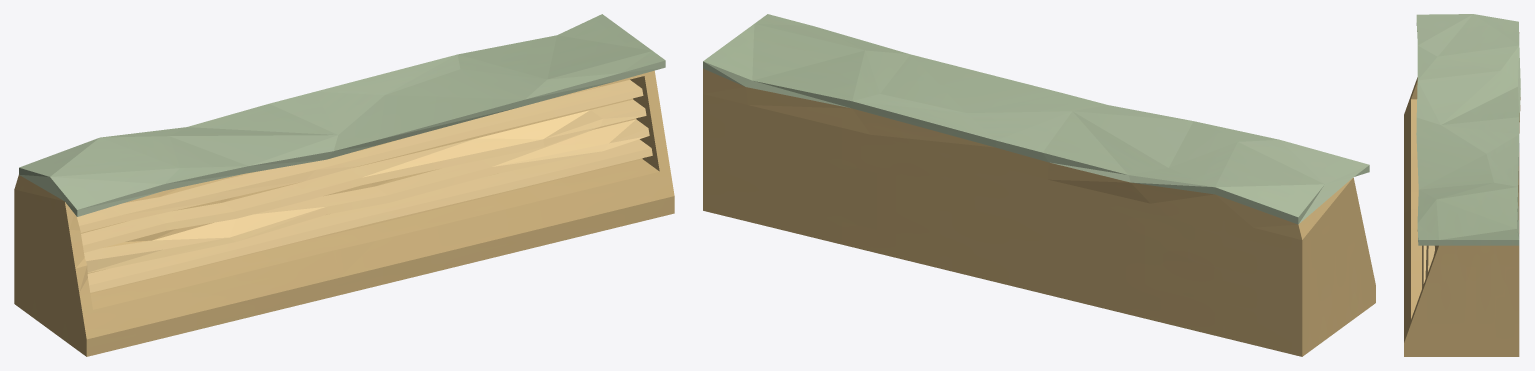
Rendered from desk_2.obj.
The picture shows the model from 3 angles, left to right: view 1: azimuth 30°, elevation 25°; view 2: azimuth 150°, elevation 25°; view 3: azimuth 270°, elevation 25°; orthographic projection. The views are drawn at different scales.
Visible parts, largest first — view 1: desk_2_Material; view 2: desk_2_Material; view 3: desk_2_Material.
Boxes of the visible parts, x1,y1,x2,y2 form: desk_2_Material: [14, 14, 674, 356]; desk_2_Material: [703, 14, 1375, 356]; desk_2_Material: [1404, 14, 1520, 356].
Bounding box in the file's own units: 3.8 × 0.9023 × 0.8164.
